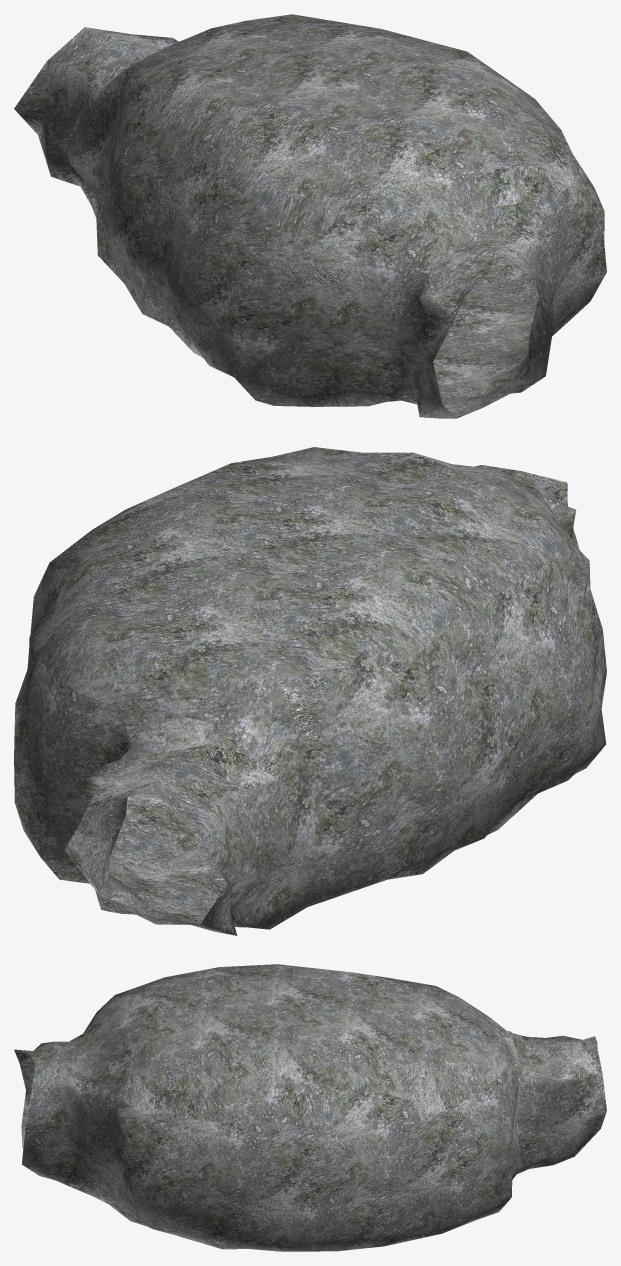
The model's file is Chamber02.obj.
3 renders of one model, top to bottom at view 1: azimuth 30°, elevation 25°; view 2: azimuth 150°, elevation 25°; view 3: azimuth 270°, elevation 25°, orthographic. The views are drawn at different scales.
Visible parts, largest first — view 1: Untitled_CaveTwo300; view 2: Untitled_CaveTwo300; view 3: Untitled_CaveTwo300.
Boxes of the visible parts, x1,y1,x2,y2 form: Untitled_CaveTwo300: [14, 14, 606, 418]; Untitled_CaveTwo300: [14, 447, 606, 935]; Untitled_CaveTwo300: [14, 964, 606, 1251].
Size of what is drawn, in the model's own units: 63.11 by 37.27 by 101.
1 material, 1 textured.
